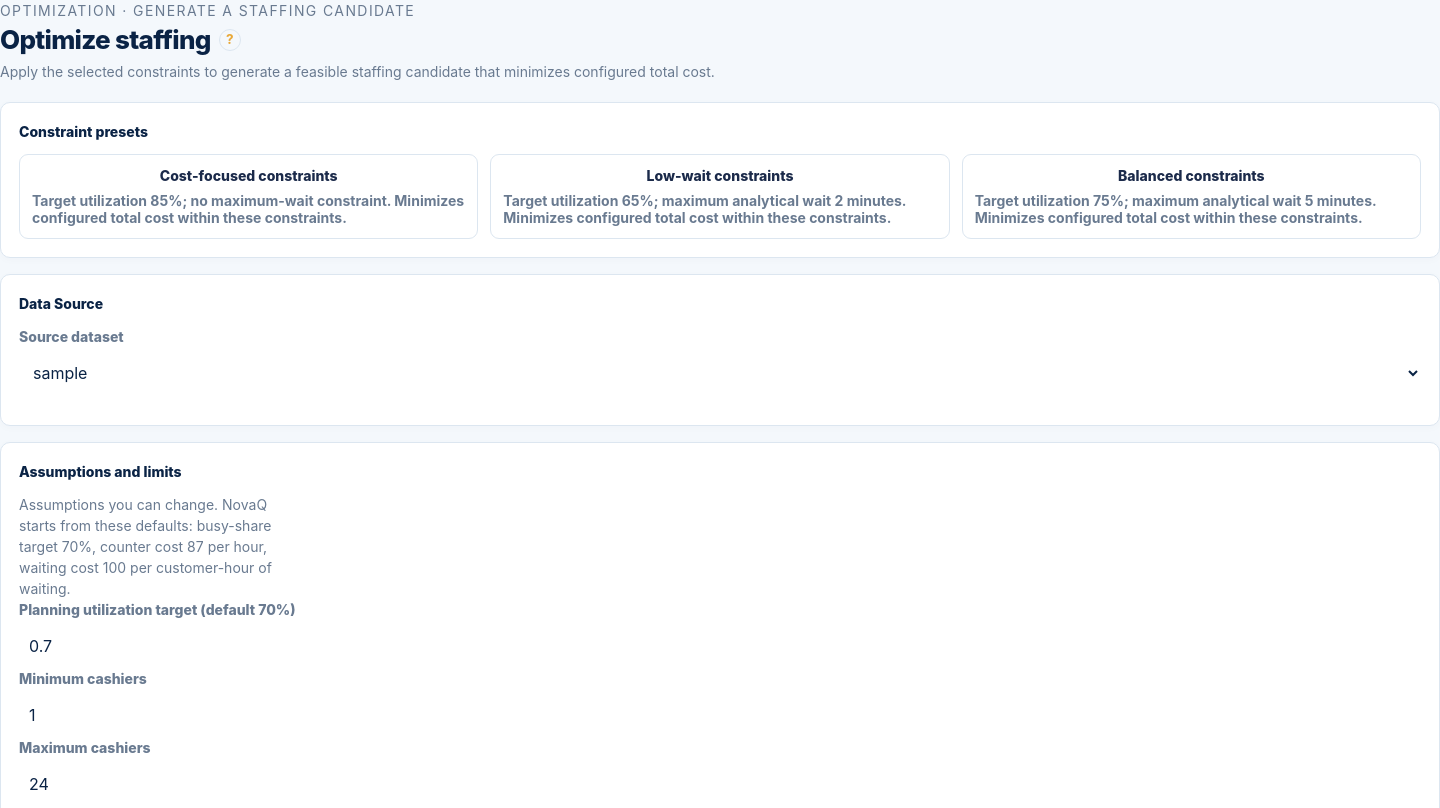
Test: calculation integrity › does not turn an infeasible row into zero optimized cost
Select "sample" in the dropdown labelled "Source dataset": (720, 373) [19,351,1421,395]
(page scrolled)
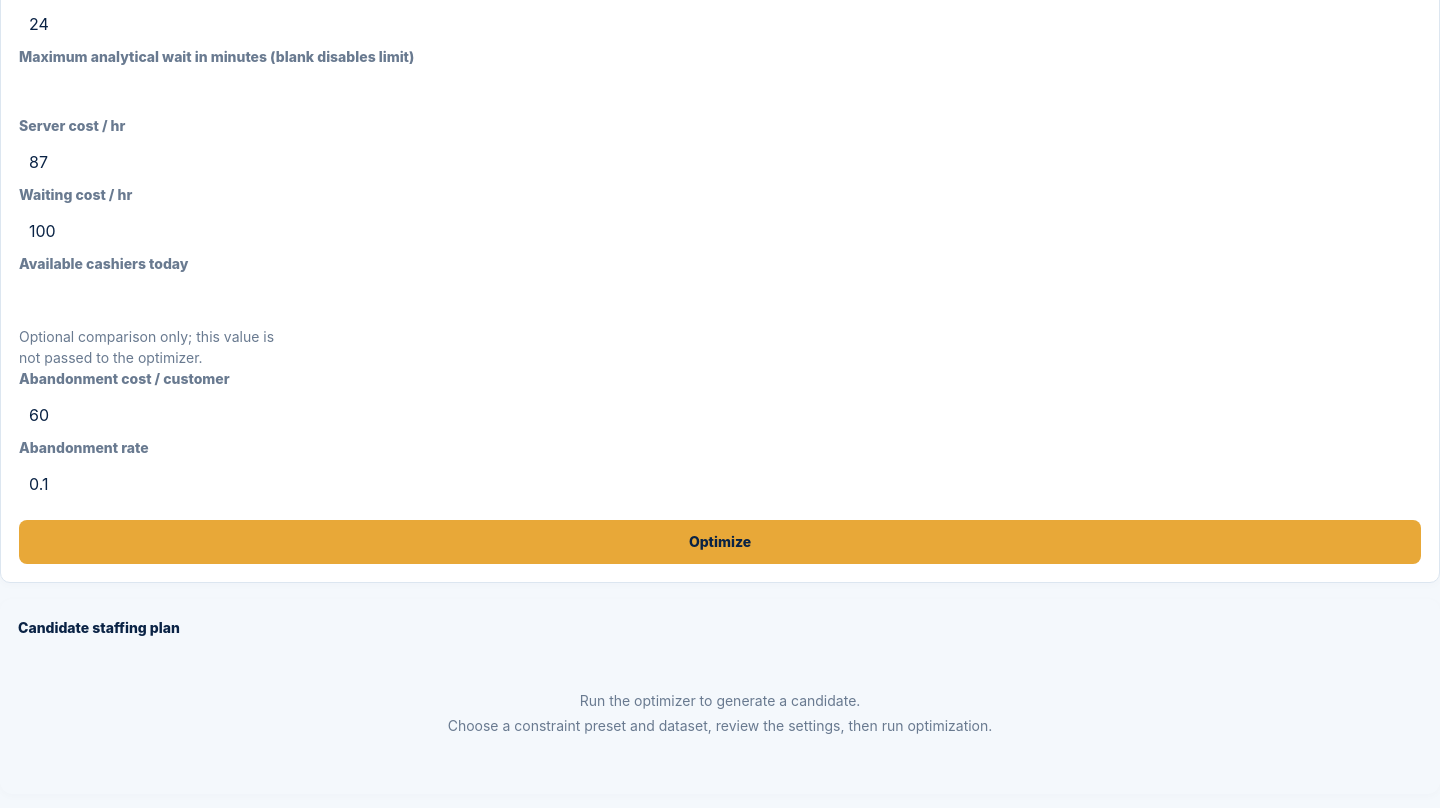
Click the button "Optimize": (720, 542) [19,520,1421,564]
(page scrolled)
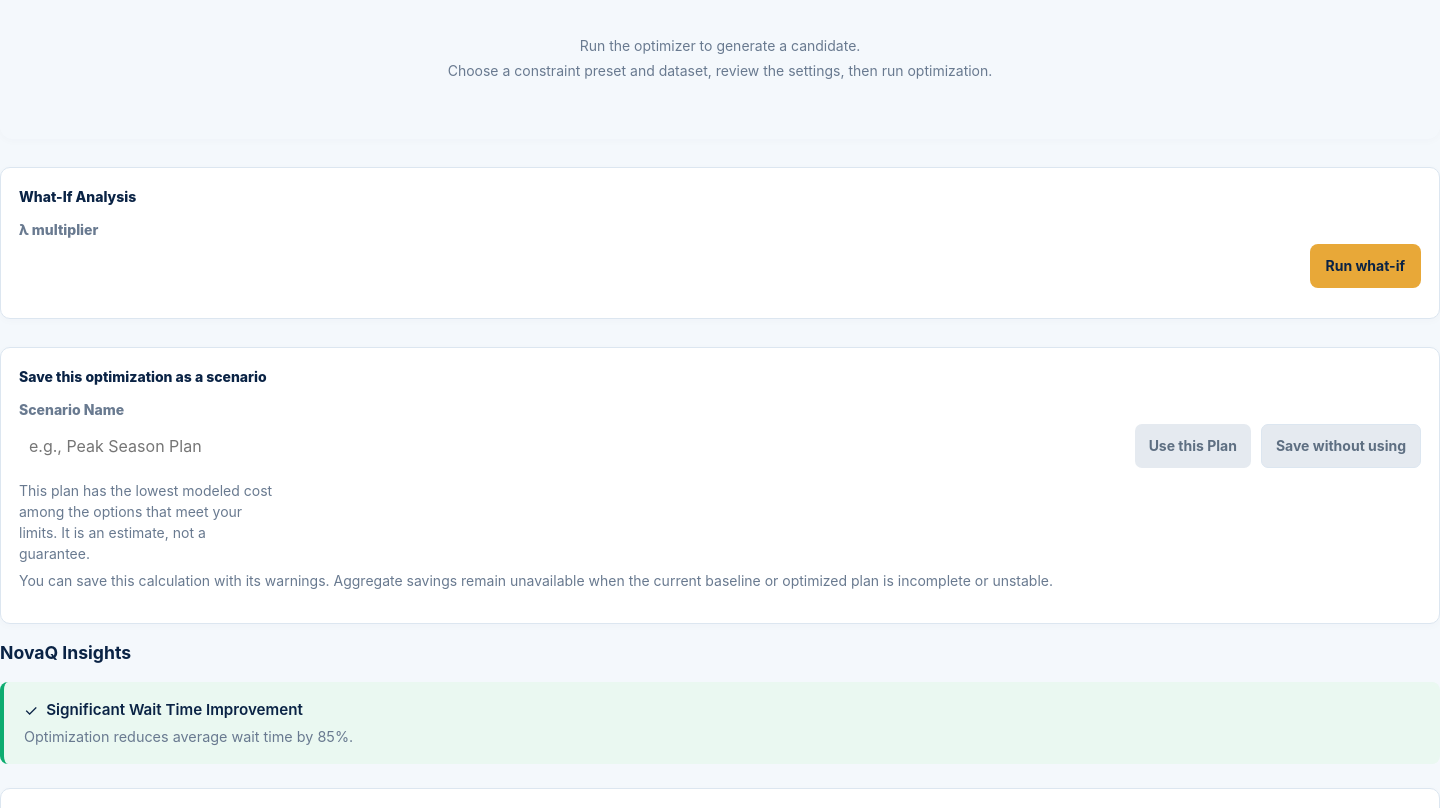
In the field labelled "Scenario Name": (572, 446) [19,424,1125,468], type "Incomplete plan"
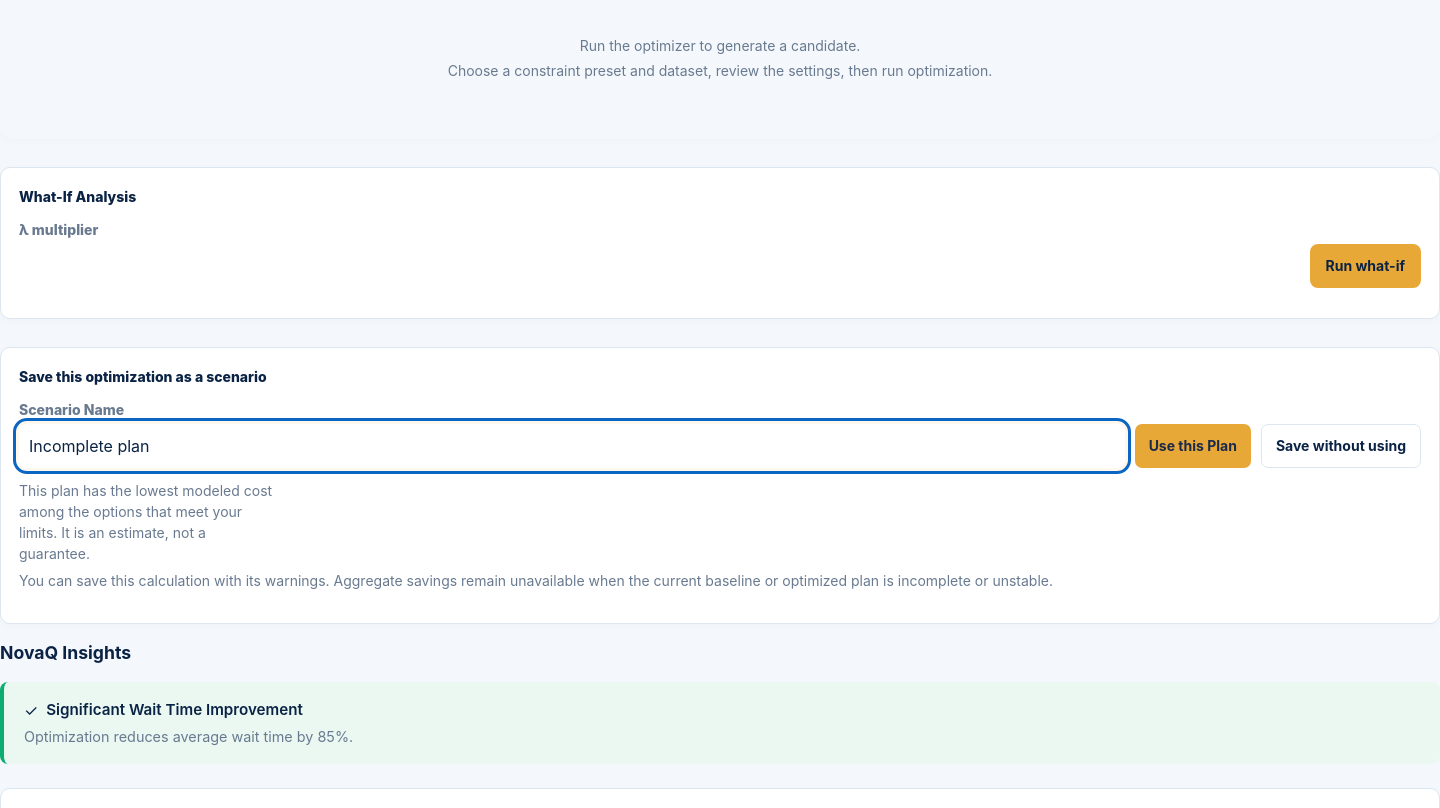
Now the button "Save without using" is enabled
Click the button "Save without using": (1341, 446) [1261,424,1421,468]
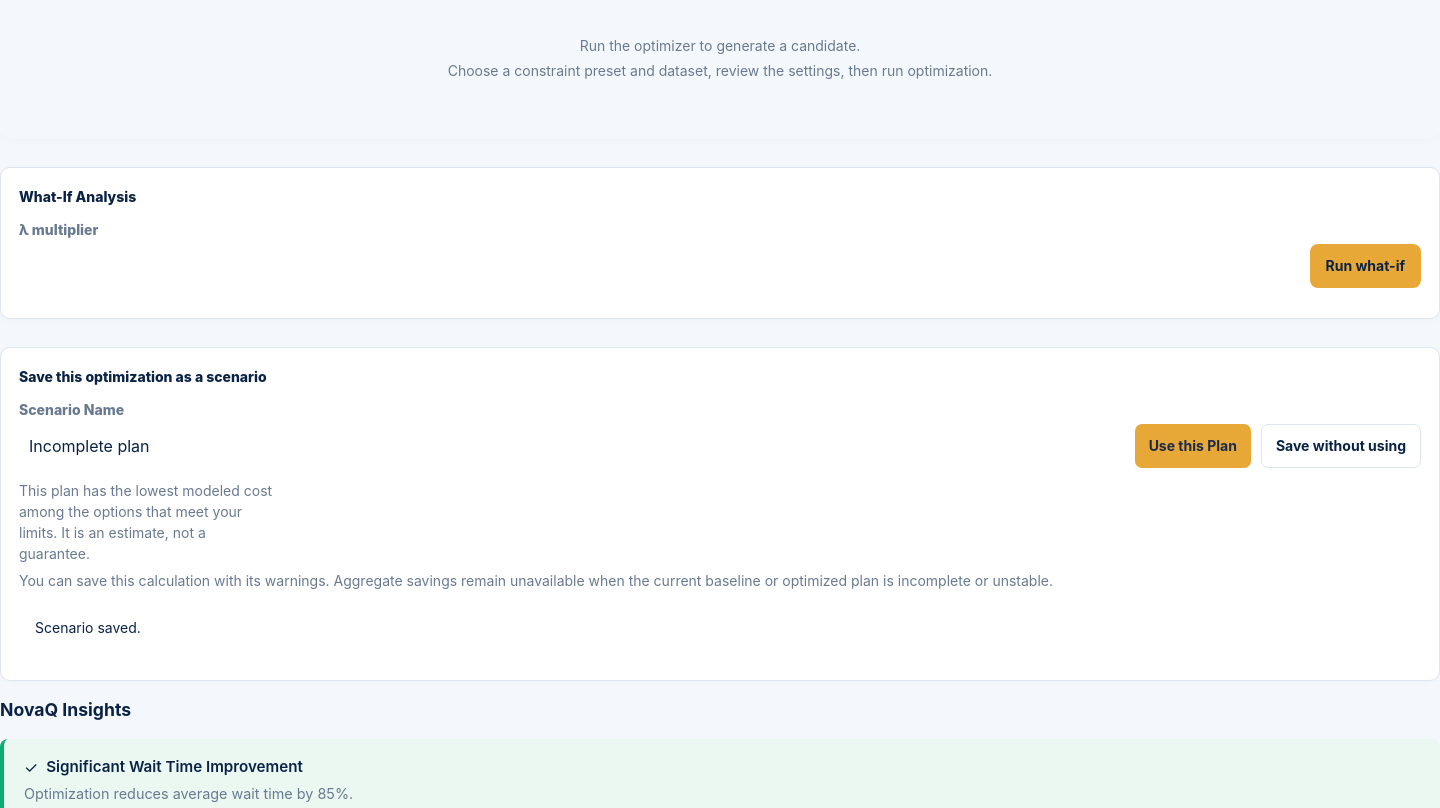
Now the text "Scenario saved." is shown, box [35,619,141,636]
